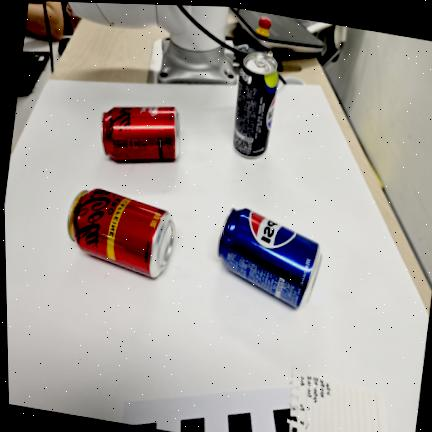can_coke_decaf: (67, 188, 175, 277)
can_coke_zero: (100, 106, 179, 160)
can_pepsi: (217, 208, 321, 308)
can_pepsi_zero: (233, 52, 278, 157)
